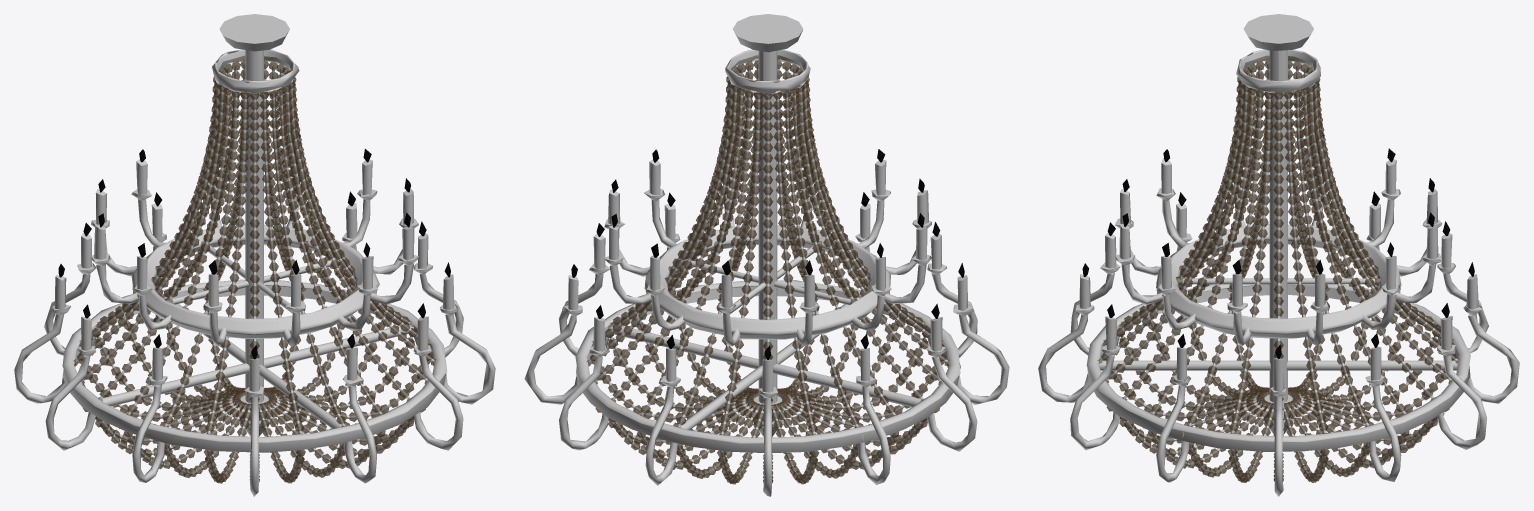
The model's file is Chandellier.fbx.
The picture shows the model from 3 angles, left to right: view 1: azimuth 30°, elevation 25°; view 2: azimuth 150°, elevation 25°; view 3: azimuth 270°, elevation 25°; orthographic projection.
Parts seen in each view (by area): view 1: Chandellier; view 2: Chandellier; view 3: Chandellier.
Boxes of the visible parts, bbox=[...] form: Chandellier: bbox=[14, 14, 495, 496]; Chandellier: bbox=[524, 14, 1009, 496]; Chandellier: bbox=[1038, 14, 1519, 496].
Bounding box in the file's own units: 259 × 259 × 245.
